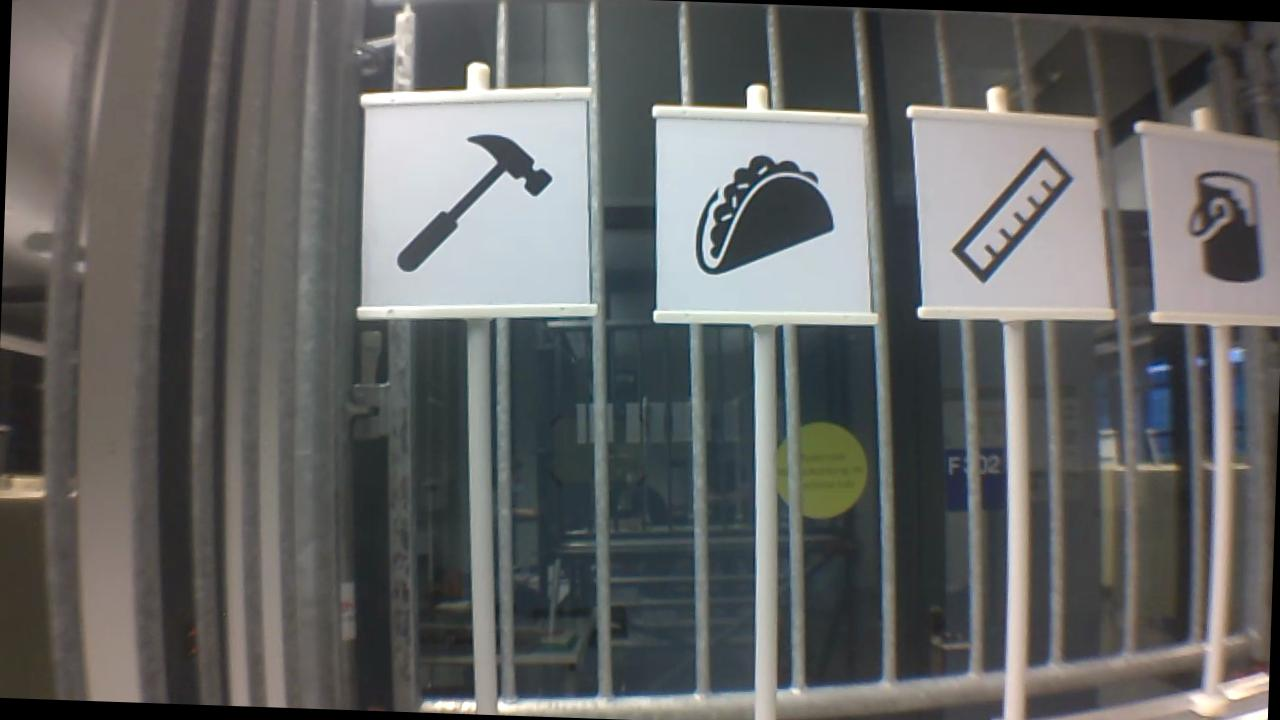bucket: (1175, 172, 1280, 301)
hammer: (393, 106, 572, 286)
ruler: (940, 139, 1066, 281)
taco: (689, 150, 841, 279)
